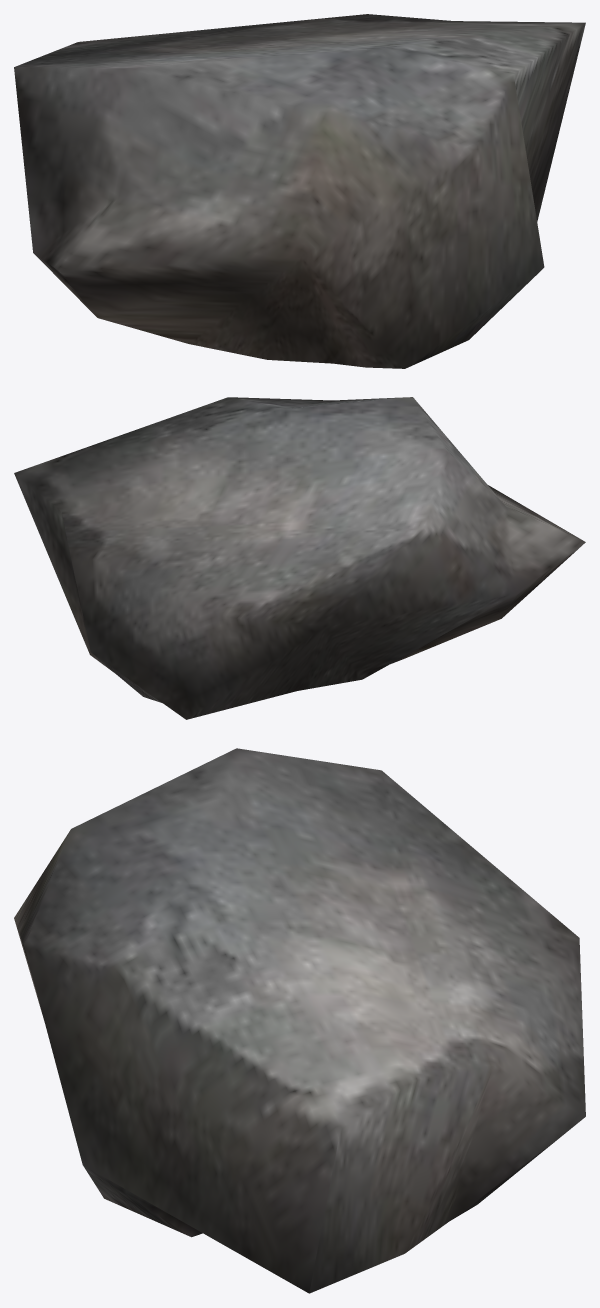
The model's file is forest-rock-19.glb.
3 views of the same model, one above another, from view 1: azimuth 30°, elevation 25°; view 2: azimuth 150°, elevation 25°; view 3: azimuth 270°, elevation 25° (orthographic). The views are drawn at different scales.
Parts seen in each view (by area): view 1: Rocks.007; view 2: Rocks.007; view 3: Rocks.007.
Part boxes in pixels (box(x1,y1,x2,y2)): Rocks.007: box(14, 14, 585, 368); Rocks.007: box(14, 397, 585, 719); Rocks.007: box(14, 748, 585, 1293).
Size of the model in its own units: 132 by 61.05 by 98.77.
Materials: 1 (1 with a texture image).
